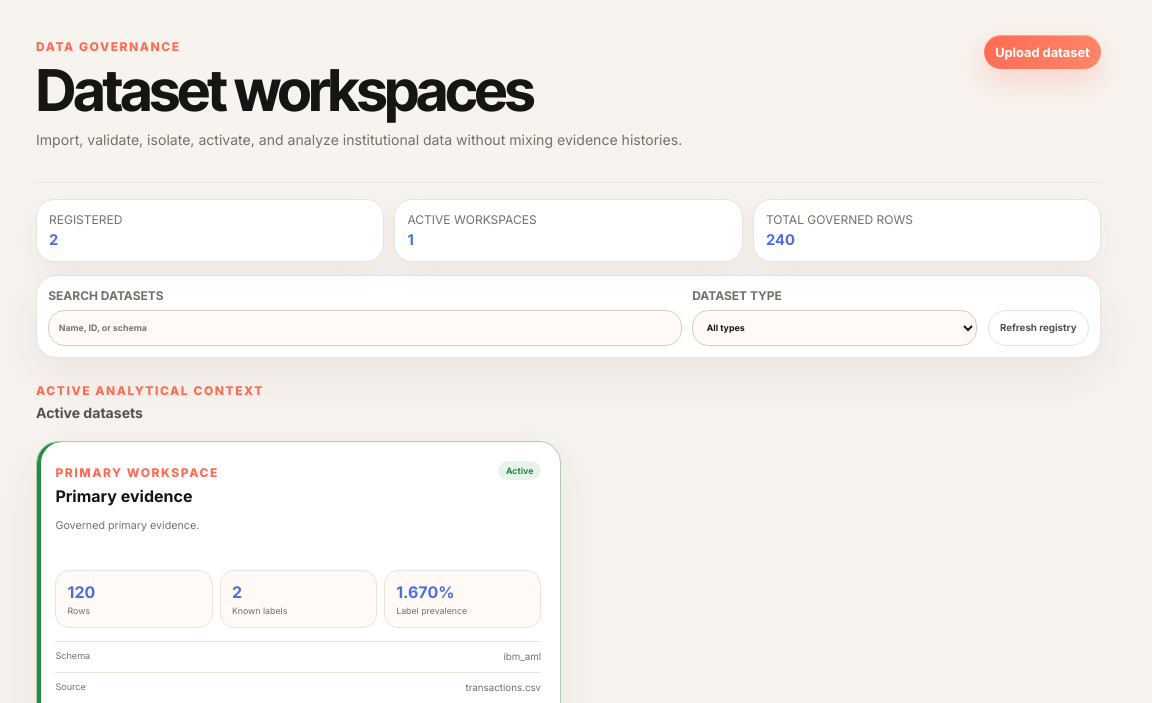
Test: Dataset workspace › filters isolated datasets by name and type without hiding active context
Expected: the heading "Primary evidence" is shown, x1=55 y1=486 x2=192 y2=506
Select "Primary transactions" in the dropdown labelled "Dataset type" at [835, 328], box x1=692 y1=310 x2=977 y2=346
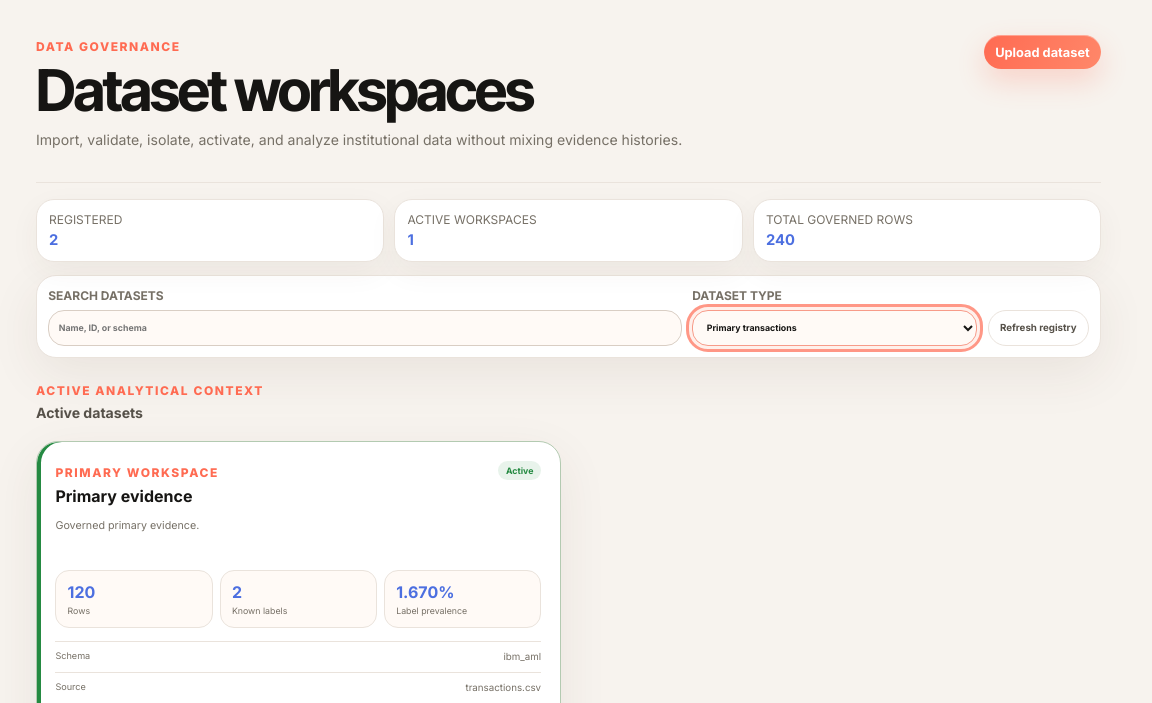
Expected: the heading "Primary evidence" is shown, x1=55 y1=486 x2=192 y2=506
Select "All types" in the dropdown labelled "Dataset type" at [835, 328], box x1=692 y1=310 x2=977 y2=346
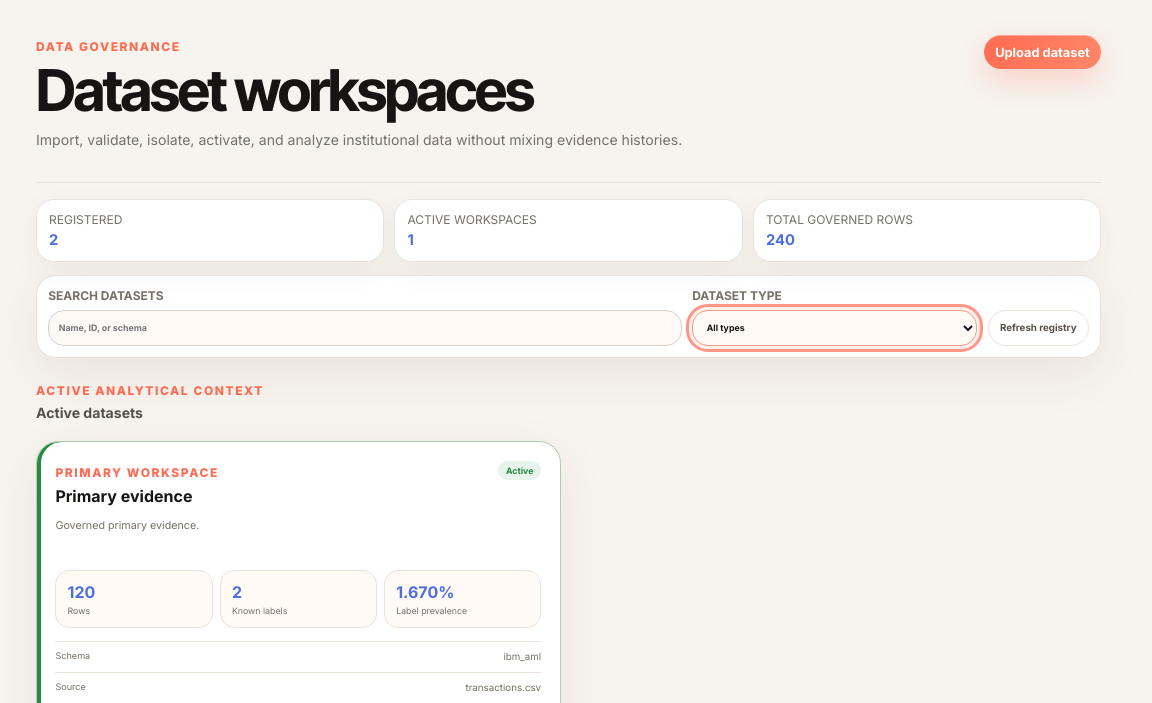
Type "missing" into the search field labelled "Search datasets" at [365, 328], box x1=48 y1=310 x2=682 y2=346
(page scrolled)
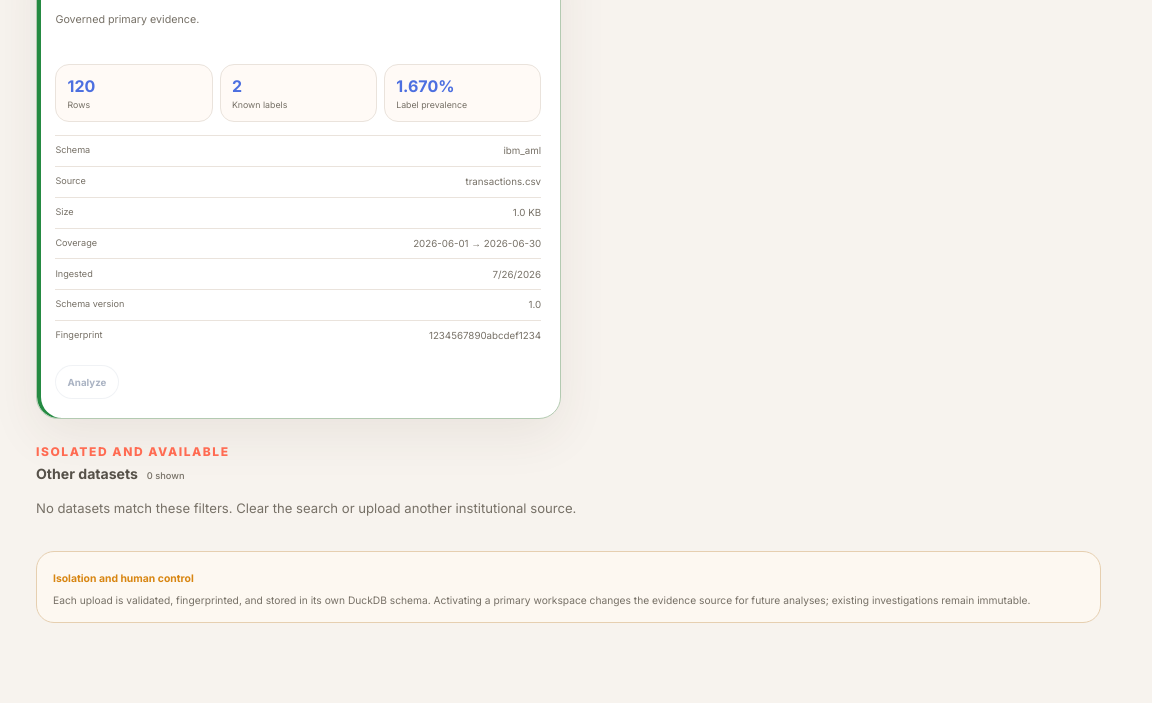
Expected: the text "No datasets match these filters" is shown, x1=36 y1=500 x2=576 y2=516
